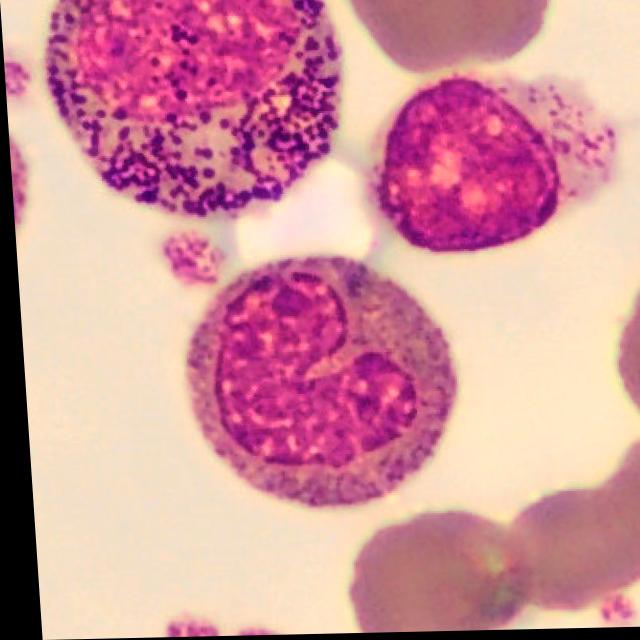Linfocito: (369, 76, 615, 254)
Metamielocito: (179, 255, 453, 510)
Promielocito: (43, 0, 342, 215)
